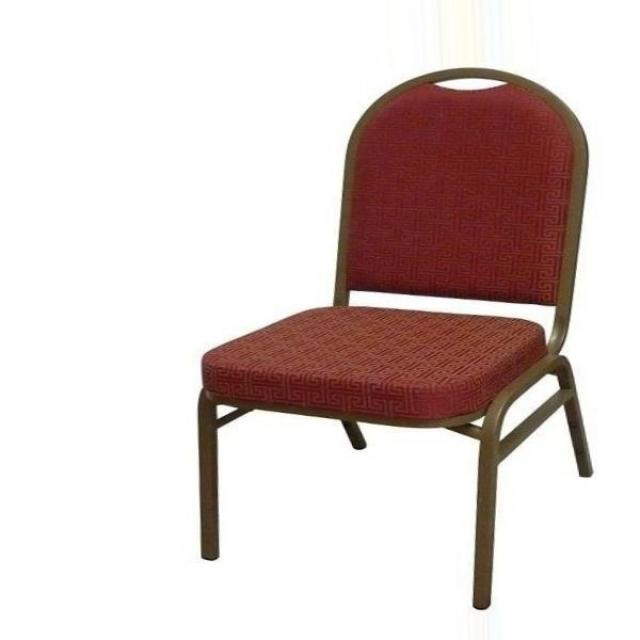Chair: (192, 67, 599, 620)
